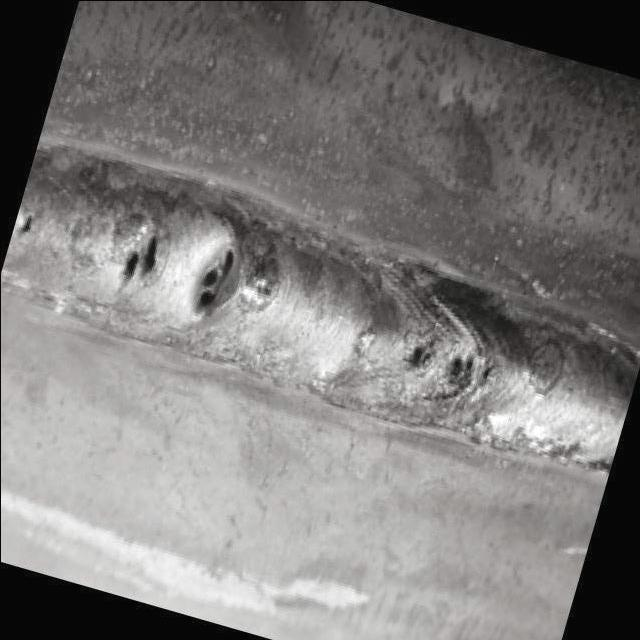defect: (188, 225, 249, 327), (114, 217, 170, 303), (439, 342, 501, 407), (400, 327, 441, 383), (15, 200, 40, 240)
